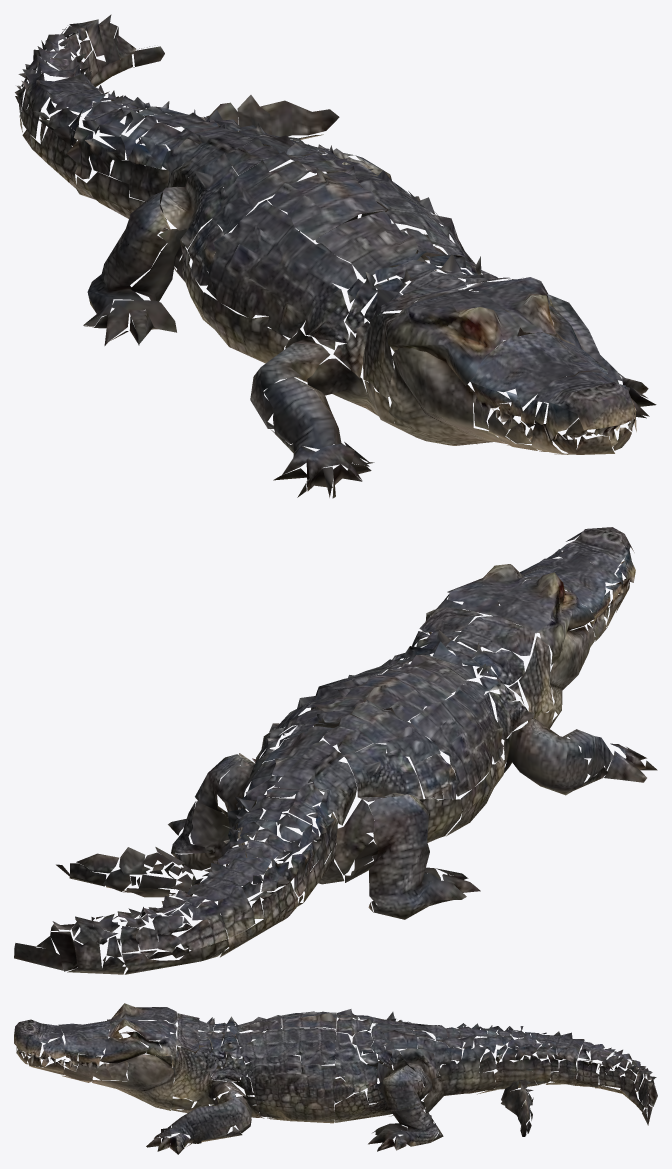
Rendered from jacare.glb.
3 views of the same model, one above another, from view 1: azimuth 30°, elevation 25°; view 2: azimuth 150°, elevation 25°; view 3: azimuth 270°, elevation 25° (orthographic). The views are drawn at different scales.
Visible parts, largest first — view 1: tripo_node_dd7e1ec3-da1f-4b88-b424-d78796a304b8; view 2: tripo_node_dd7e1ec3-da1f-4b88-b424-d78796a304b8; view 3: tripo_node_dd7e1ec3-da1f-4b88-b424-d78796a304b8.
Part boxes in pixels (<box>): tripo_node_dd7e1ec3-da1f-4b88-b424-d78796a304b8: <box>15,14,656,498</box>; tripo_node_dd7e1ec3-da1f-4b88-b424-d78796a304b8: <box>14,527,657,974</box>; tripo_node_dd7e1ec3-da1f-4b88-b424-d78796a304b8: <box>14,1003,657,1154</box>.
Size of the model in its own units: 1.32 by 0.6 by 3.49.
1 material, 1 textured.
